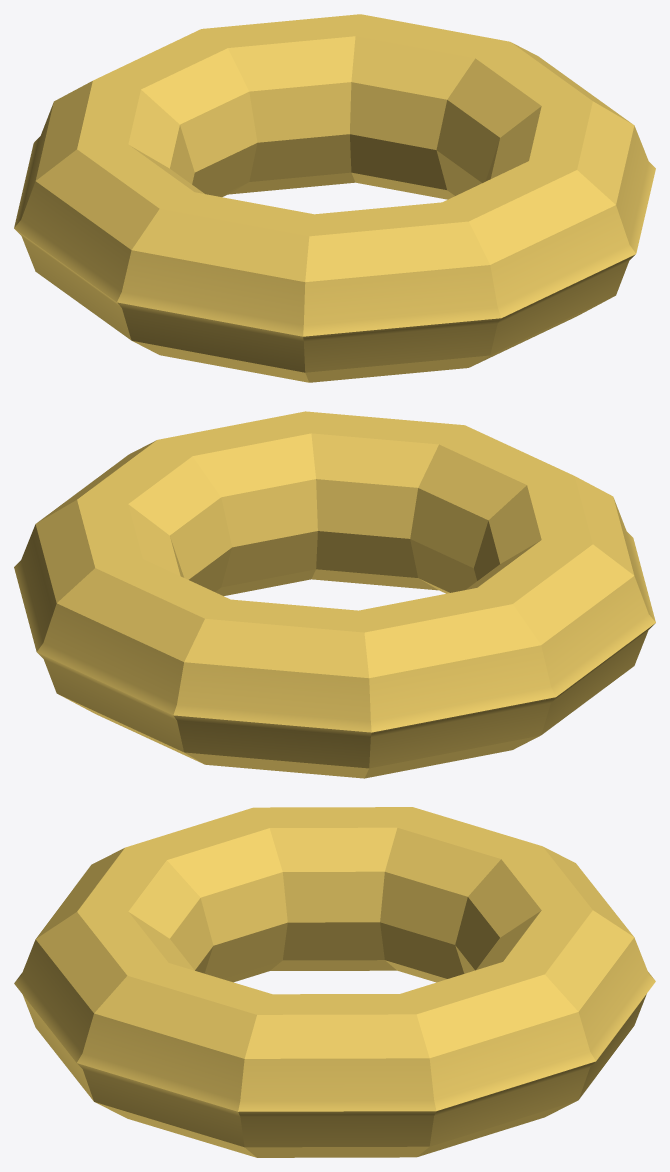
Rendered from floaty.fbx.
The picture shows the model from 3 angles, top to bottom: view 1: azimuth 30°, elevation 25°; view 2: azimuth 150°, elevation 25°; view 3: azimuth 270°, elevation 25°; orthographic projection. The views are drawn at different scales.
Visible parts, largest first — view 1: plain_floaty2; view 2: plain_floaty2; view 3: plain_floaty2.
Boxes of the visible parts, x1,y1,x2,y2 form: plain_floaty2: [14, 14, 655, 382]; plain_floaty2: [14, 411, 655, 778]; plain_floaty2: [14, 807, 655, 1157].
Bounding box in the file's own units: 55.58 × 14.33 × 58.3.
